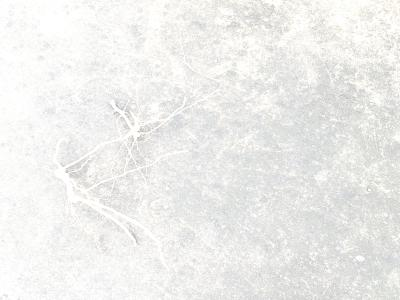Root: (53, 137, 169, 270)
